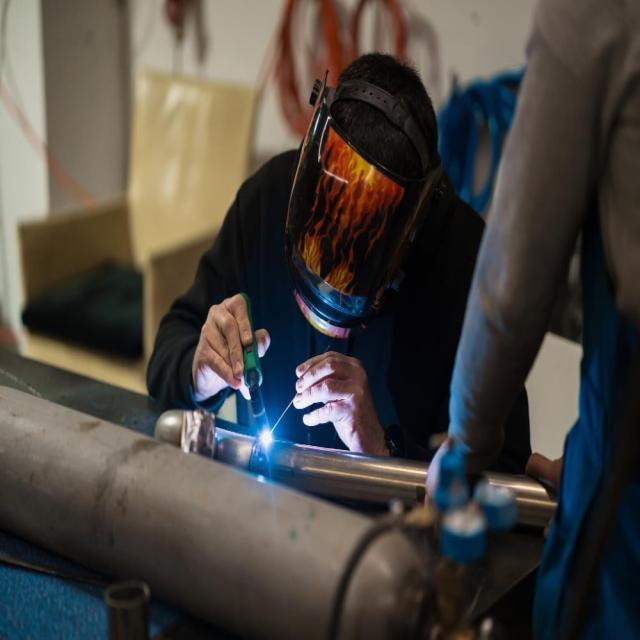welding: (259, 424, 272, 447)
